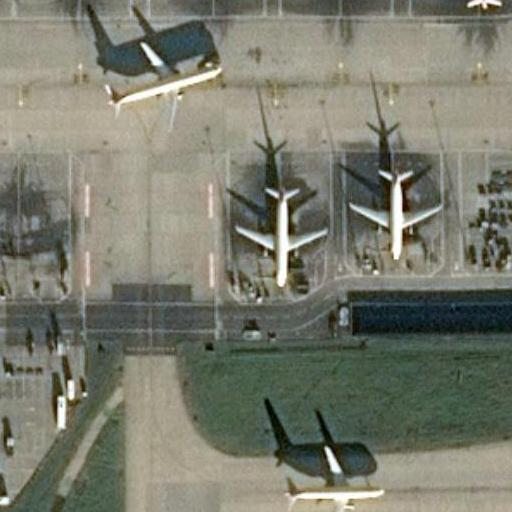Aircraft: (103, 35, 224, 135), (232, 183, 326, 286), (348, 167, 442, 260), (282, 442, 386, 512), (434, 0, 512, 11)
